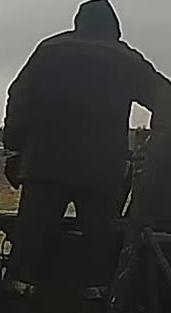gloves: (2, 143, 32, 192)
vest: (24, 34, 150, 167)
